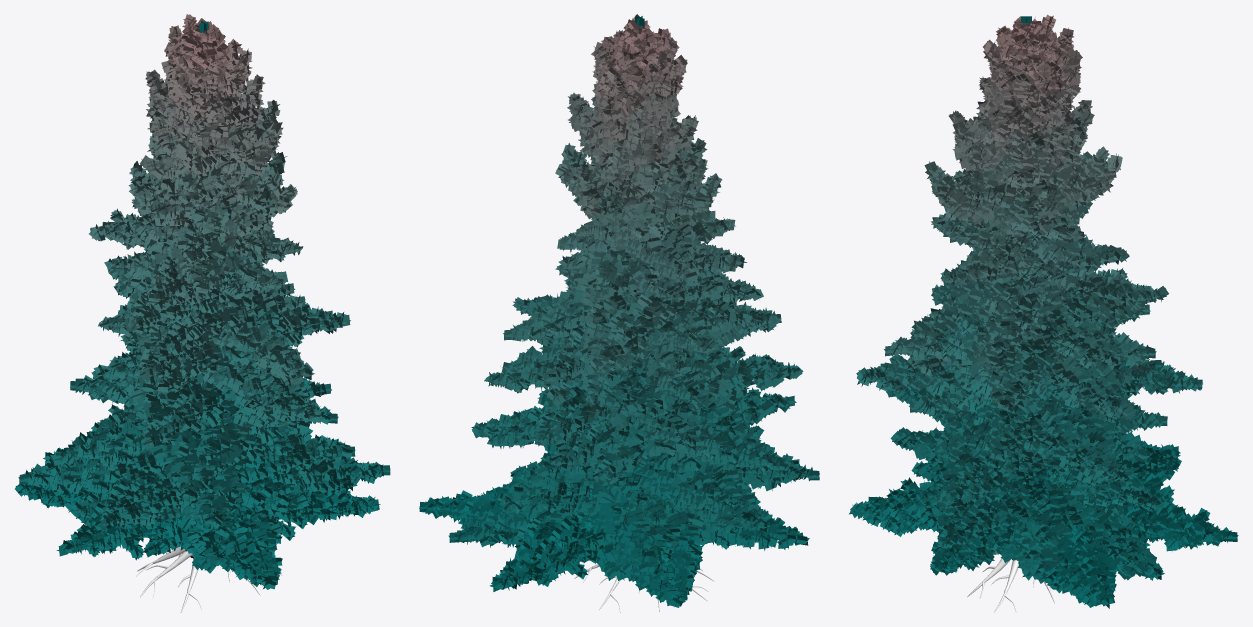
3 renders of one model, left to right at view 1: azimuth 30°, elevation 25°; view 2: azimuth 150°, elevation 25°; view 3: azimuth 270°, elevation 25°, orthographic.
Visible parts, largest first — view 1: Foliage, Roots; view 2: Foliage; view 3: Foliage.
Part boxes in pixels (x1,y1,x2,y2): Foliage: [15, 14, 390, 589]; Roots: [152, 546, 248, 592]; Foliage: [419, 14, 819, 607]; Foliage: [849, 14, 1238, 608].
Bounding box in the file's own units: 47431 × 47350 × 76338.
